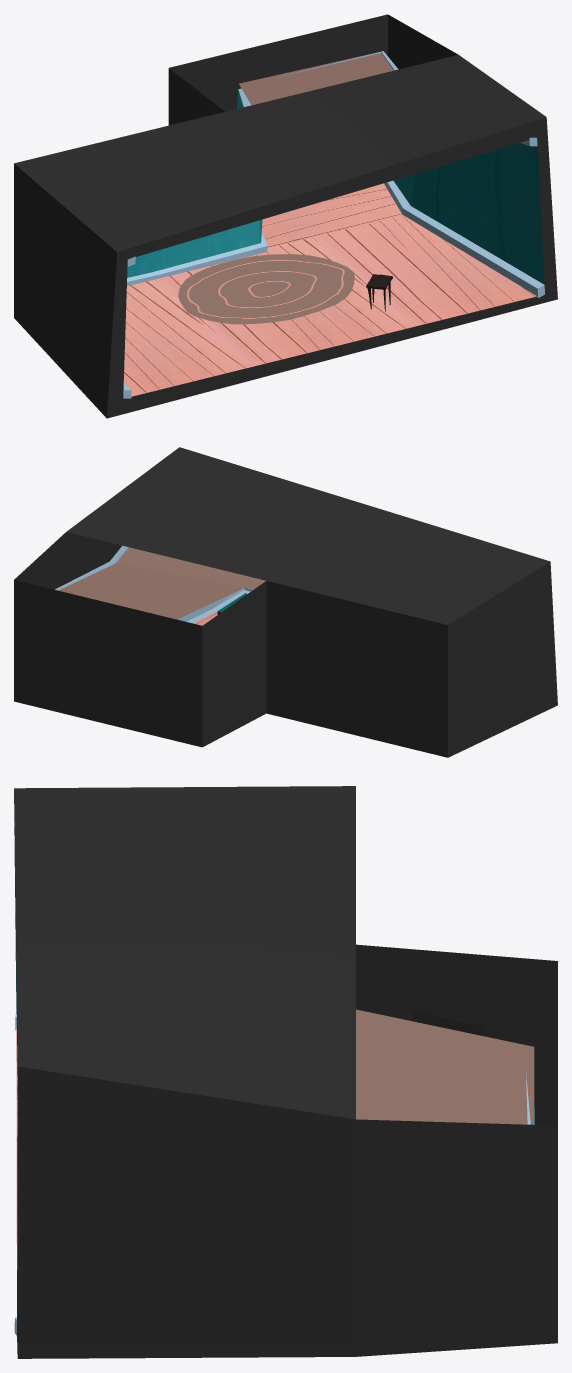
Rendered from scene_teeth.fbx.
The picture shows the model from 3 angles, top to bottom: view 1: azimuth 30°, elevation 25°; view 2: azimuth 150°, elevation 25°; view 3: azimuth 270°, elevation 25°; orthographic projection. The views are drawn at different scales.
Visible parts, largest first — view 1: sm_roof, sm_walls, sm_floor, sm_carpet, sm_chair; view 2: sm_walls, sm_roof; view 3: sm_walls, sm_roof.
Boxes of the visible parts, x1,y1,x2,y2 form: sm_roof: (14,51,546,259); sm_walls: (14,14,557,418); sm_floor: (107,183,557,418); sm_carpet: (178,254,354,324); sm_chair: (366,274,392,311); sm_walls: (14,532,557,757); sm_roof: (55,447,550,624); sm_walls: (14,800,557,1358); sm_roof: (14,786,534,1124).
Size of the model in its own units: 19.26 by 7.71 by 12.78.
Materials: 7 (5 with a texture image).
